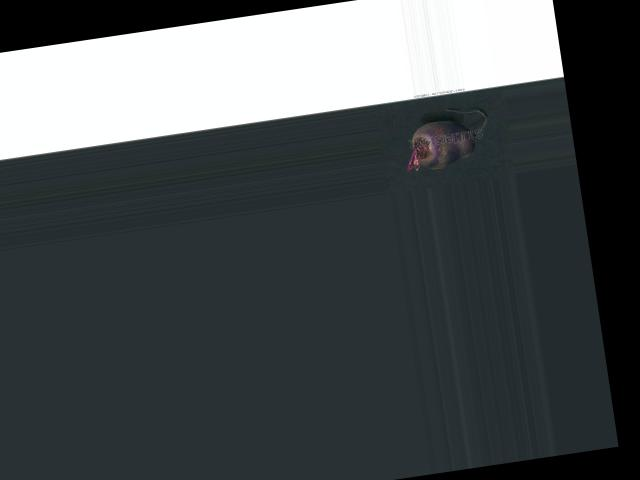beet: (396, 103, 492, 174)
